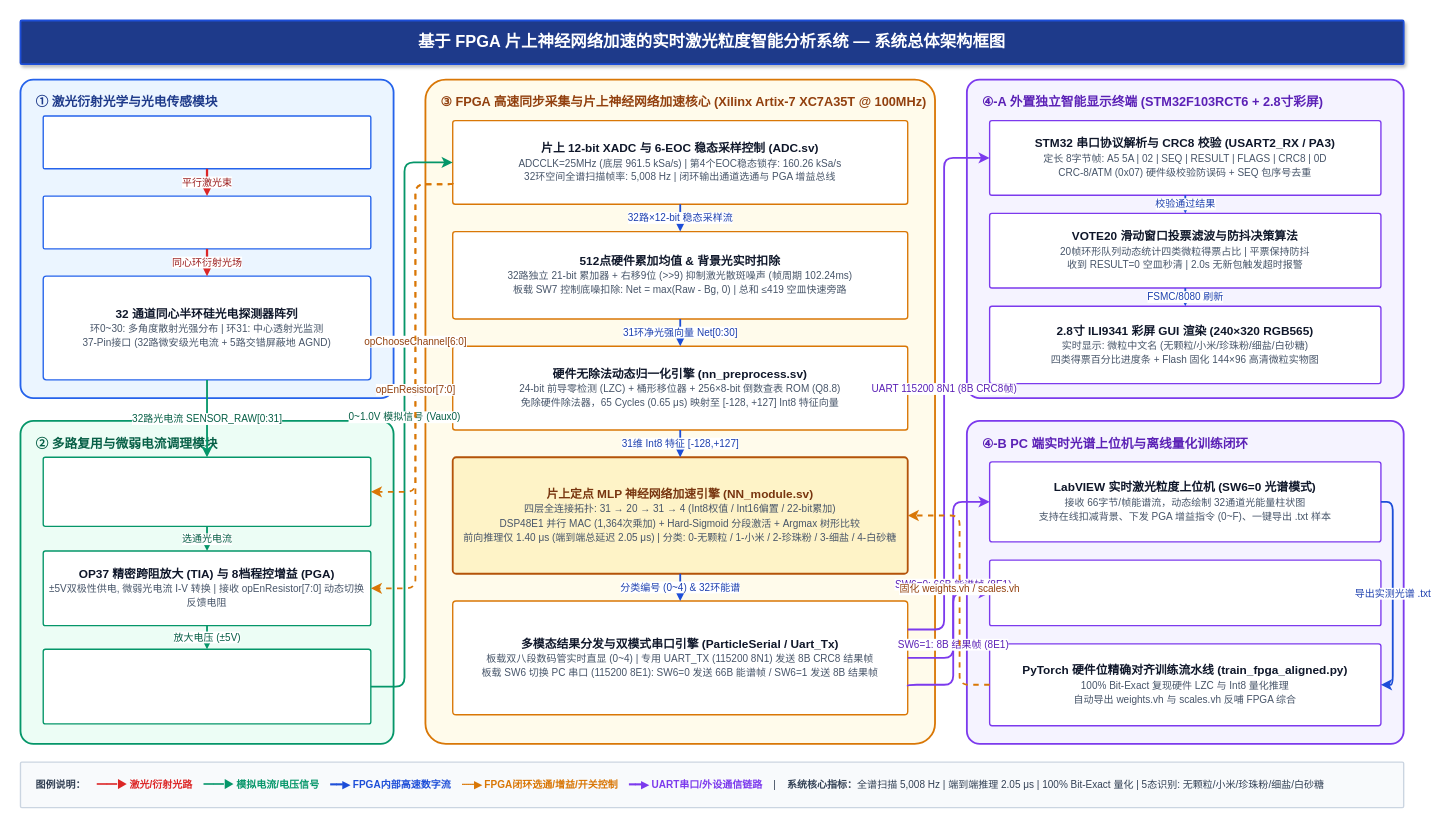
Image size: 1446x824. Some labels were removed from this diagram. The shapes that lost their labels are listed below. From the top down, each one's centre as x and y in pixels, then its label:
(x=206, y=142): 半导体激光器 & 准直扩束镜组 波长 650nm, 功率 15mW | 扩束 f1=10mm, 准直 f2=150mm
(x=206, y=222): 通过漏斗洒落样品 & 凸透镜 待测微粒夫琅禾费衍射与米氏散射 | 透镜焦距 f=400mm
(x=206, y=491): 双片 ADG1206YRUZ 高速模拟开关矩阵 16:1×2 奇偶交错分路 (32选1轮询) | 接收 7位选通码 opChooseChannel[6:0]
(x=1185, y=592): Python 串口解码与连续准确率评估工具 (SW6=1 结果模式) serial_decoder.py 实时抓包、校验 CRC8 并导出 CSV 测试报表
(x=206, y=686): 5:1 精密分压与一阶 RC 抗混叠滤波 衰减收敛至 0 ~ 1.0V 单极性低阻信号 | SMA同轴线 (RF1) 输出
